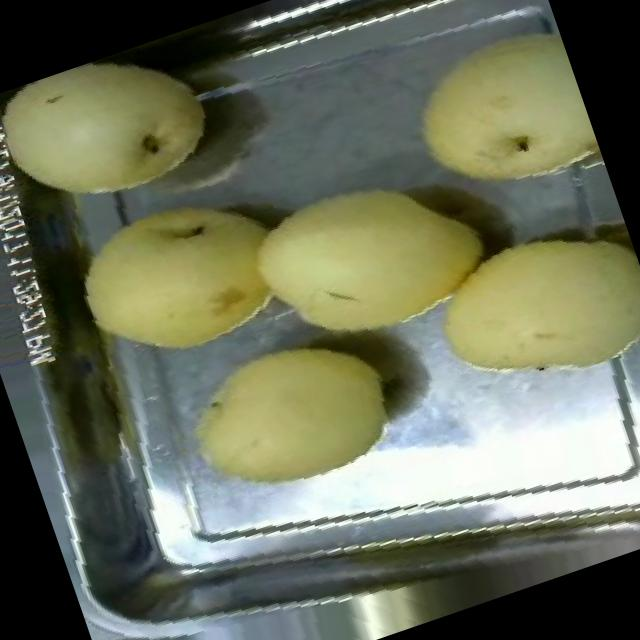Fruit: (226, 134, 520, 387), (151, 295, 430, 534), (51, 152, 316, 392), (400, 191, 640, 429), (0, 25, 242, 251), (381, 4, 607, 230)
